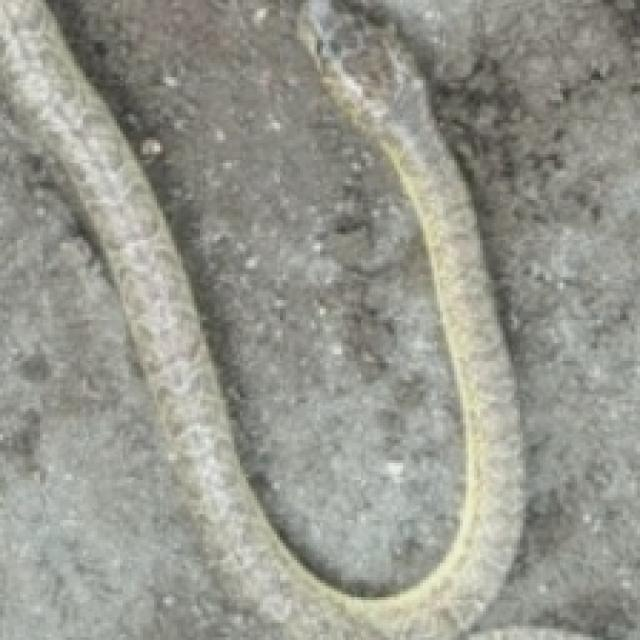mullers wolf snake: (0, 0, 520, 637), (51, 0, 434, 426), (409, 0, 637, 637), (0, 123, 234, 637)
